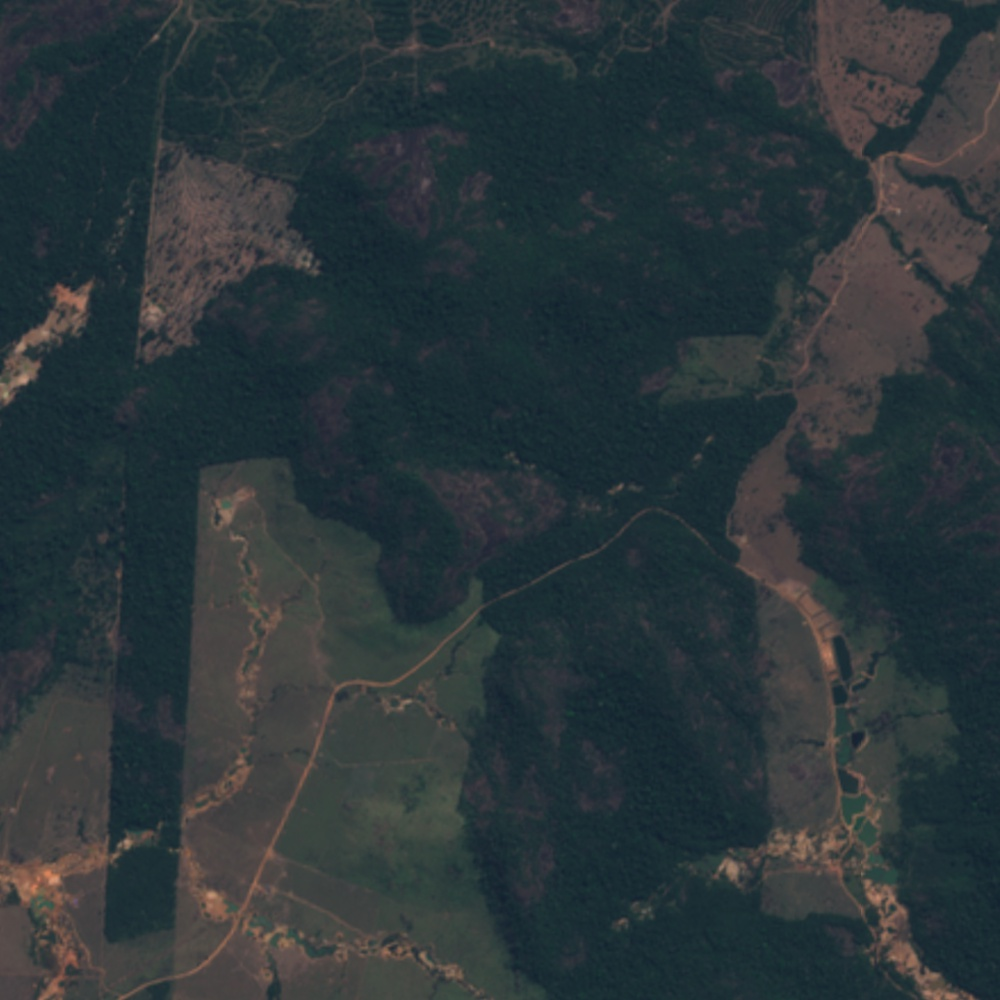legal: (621, 636, 1000, 1000), (184, 864, 494, 1000), (1, 168, 154, 421), (507, 425, 739, 534), (82, 741, 265, 871), (326, 642, 467, 733), (1, 863, 84, 1000), (747, 259, 816, 401), (230, 549, 294, 699), (207, 467, 256, 532), (134, 285, 179, 317)
